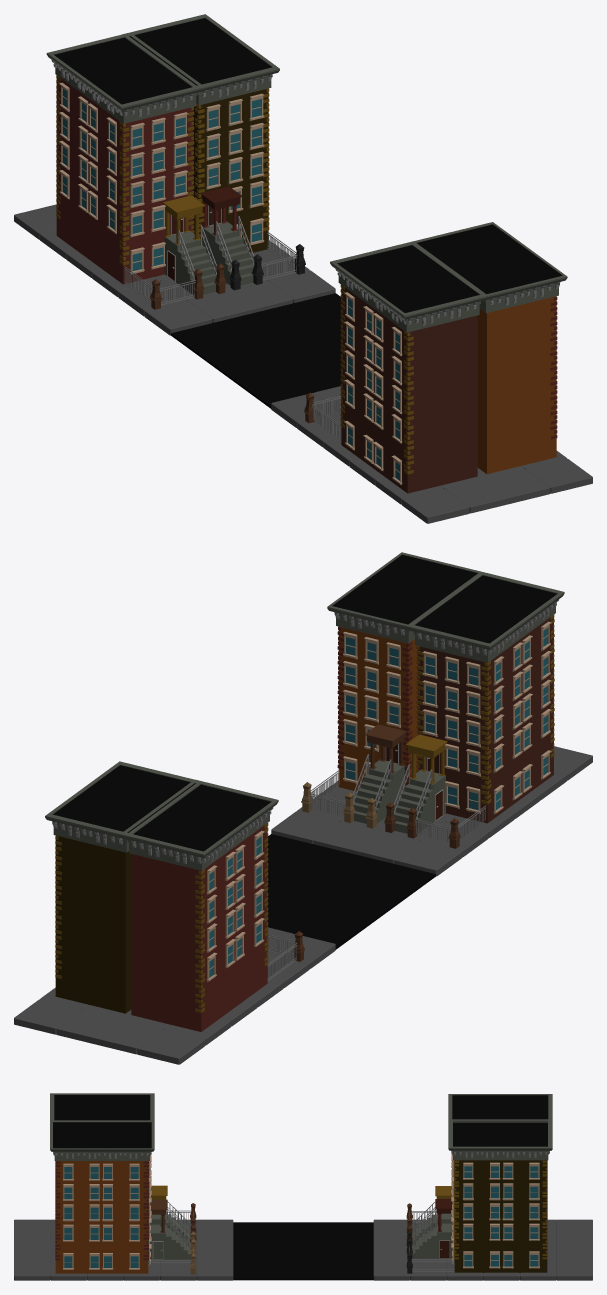
The model's file is BuildingRoads(3).fbx.
3 views of the same model, one above another, from view 1: azimuth 30°, elevation 25°; view 2: azimuth 150°, elevation 25°; view 3: azimuth 270°, elevation 25° (orthographic). The views are drawn at different scales.
Parts seen in each view (by area): view 1: Cylinder.501; view 2: Cylinder.501; view 3: Cylinder.501.
Boxes of the visible parts, <box> form: Cylinder.501: <box>14,14,592,523</box>; Cylinder.501: <box>14,552,592,1064</box>; Cylinder.501: <box>14,1093,592,1280</box>.
Bounding box in the file's own units: 2952 × 3199 × 12745.
